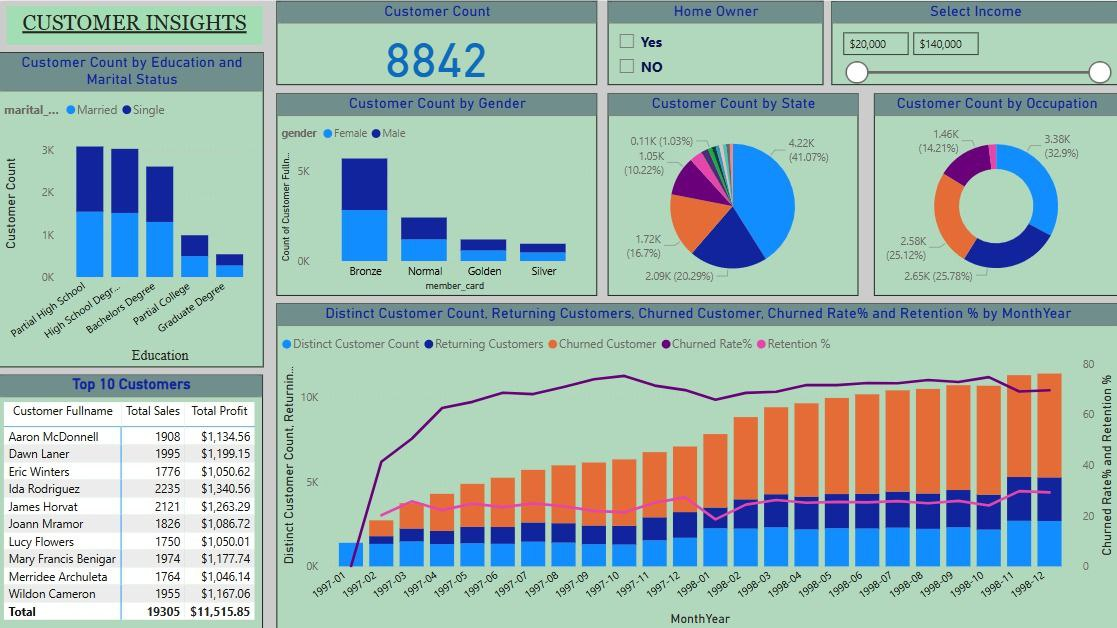

What the dashboard file says about the page in this screenshot:
{"tool":"powerbi","page":{"name":"Customer Insights","canvas":[1280,720],"ordinal":2},"visuals":[{"type":"columnChart","title":"Customer Count by Gender","fields":{"Category":["Customers.member_card"],"Y":["Customers.Customer Fullname"],"Series":["Customers.gender"]},"box":[317.5,106.2,366.2,231.2],"z":0},{"type":"columnChart","title":"Customer Count by Education and Marital Status","fields":{"Category":["Customers.education"],"Y":["Customers.Customer Fullname"],"Series":["Customers.marital_status"]},"box":[0,58.8,302.5,360],"z":1000},{"type":"donutChart","title":"Customer Count by Occupation","fields":{"Category":["Customers.occupation"],"Y":["Customers.Customer Fullname"]},"box":[1000,106.2,280,231.2],"z":2000},{"type":"pieChart","title":"Customer Count by State","fields":{"Category":["Customers.customer_state_province"],"Y":["Customers.Customer Fullname"]},"box":[696.2,106.2,286.2,231.2],"z":3000},{"type":"pivotTable","title":"Top 10 Customers","fields":{"Rows":["Customers.Customer Fullname"],"Values":["Transactions _1997.Total Sales","Transactions _1997.Total Profit"]},"box":[0,427.5,301.2,292.5],"z":4000},{"type":"lineStackedColumnComboChart","fields":{"Category":["Calendar.MonthYear"],"Y2":["Calendar.Churned Rate%","Calendar.Retention %"],"Y":["Calendar.Distinct Customer Count","Calendar.Returning Customers","Calendar.Churned Customer"]},"box":[317.5,346.2,962.5,373.8],"z":5000},{"type":"card","title":"Customer Count","fields":{"Values":["Calendar.Distinct Customer Count"]},"box":[317.5,0,366.2,96.2],"z":6000},{"type":"slicer","title":"Select Income","fields":{"Values":["Customers.Average Income"]},"box":[951.2,0,328.8,96.2],"z":7000},{"type":"slicer","title":"Home Owner","fields":{"Values":["Customers.homeowner"]},"box":[696.2,0,246.2,96.2],"z":8000},{"type":"textbox","box":[8.8,5,292.5,43.8],"z":9000}]}

Visuals, with their boxes in screenshot pixels (x1, y1, x2, y2), scaled from the page's 1280x720 canvas onto the 1117x628 screenshot:
"Customer Count by Gender" columnChart: (277, 93, 597, 294)
"Customer Count by Education and Marital Status" columnChart: (0, 51, 264, 365)
"Customer Count by Occupation" donutChart: (873, 93, 1116, 294)
"Customer Count by State" pieChart: (608, 93, 857, 294)
"Top 10 Customers" pivotTable: (0, 373, 263, 627)
lineStackedColumnComboChart - Calendar.MonthYear x Calendar.Churned Rate%: (277, 302, 1116, 627)
"Customer Count" card: (277, 0, 597, 84)
"Select Income" slicer: (830, 0, 1116, 84)
"Home Owner" slicer: (608, 0, 822, 84)
textbox: (8, 4, 263, 43)
